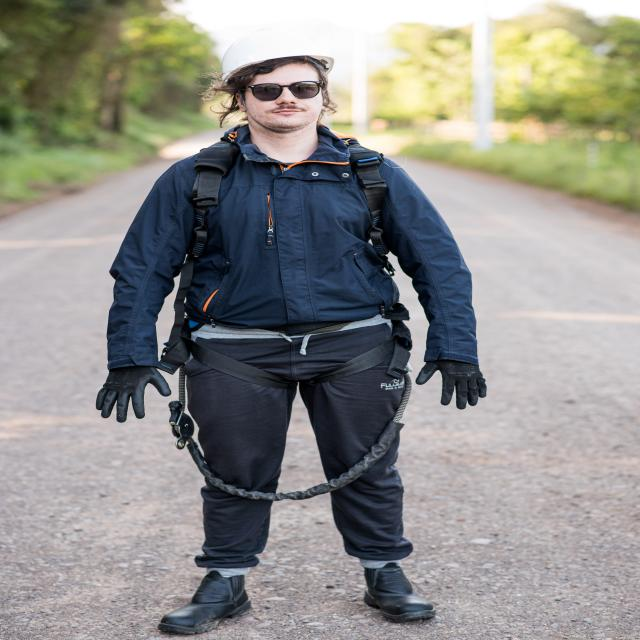botas: (157, 566, 258, 636), (353, 556, 442, 626)
capacete: (214, 22, 338, 88)
corda de vida: (158, 130, 424, 415)
luva: (89, 358, 173, 426), (413, 348, 492, 412)
